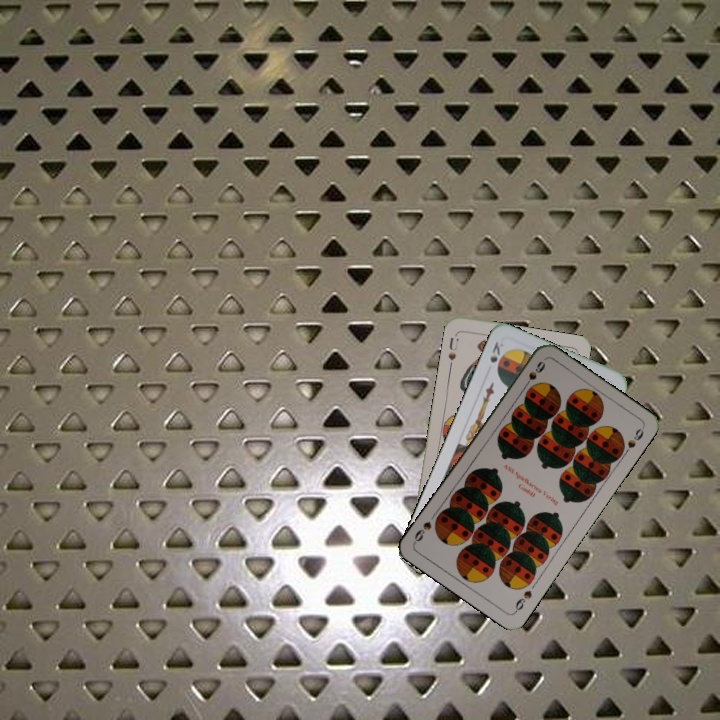S9: (519, 357, 548, 392), (510, 586, 535, 615)
SK: (486, 337, 506, 365)
SU: (444, 333, 461, 370)
